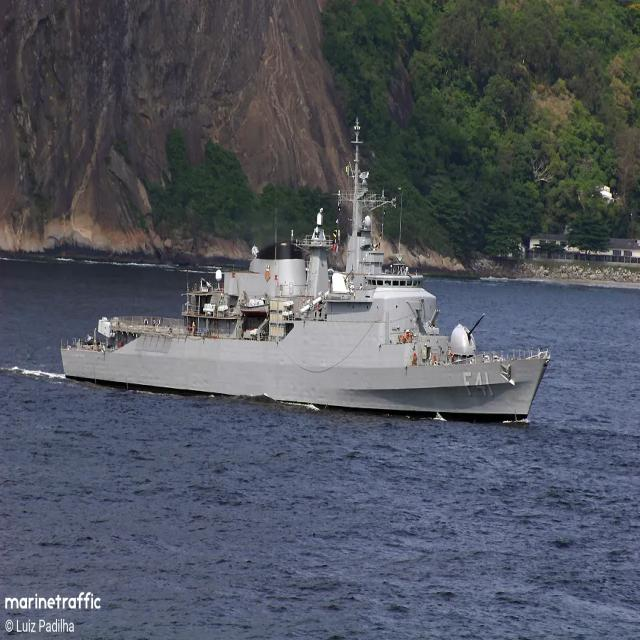Military: (59, 115, 551, 420)
